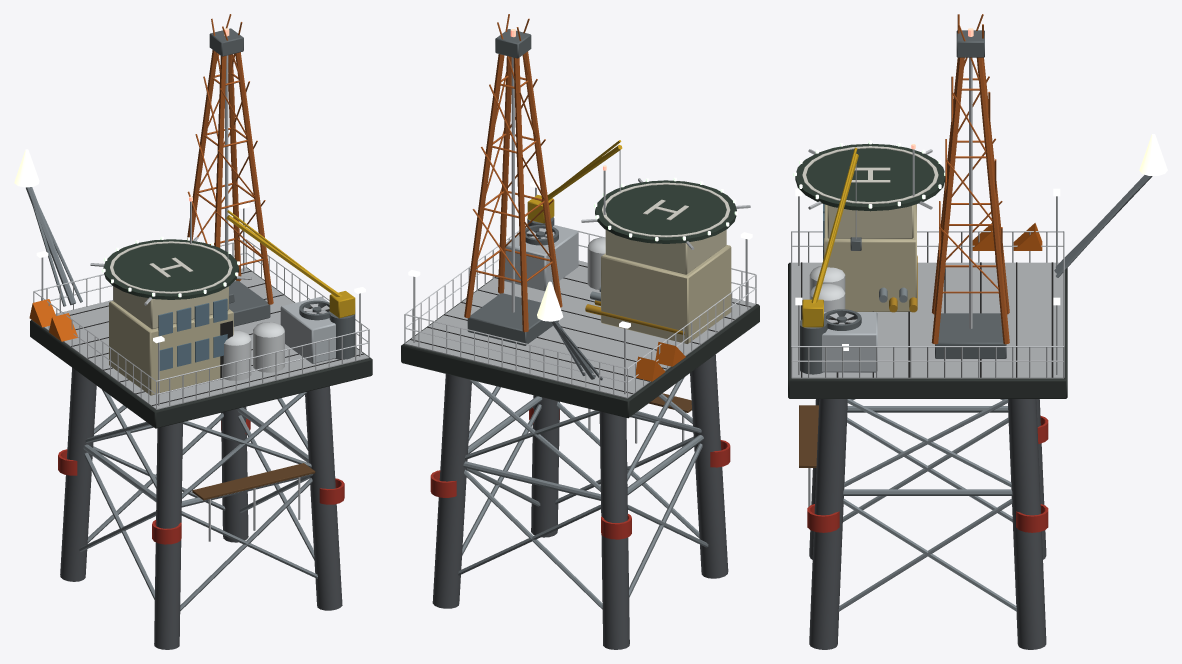
Rendered from offshoreRig.glb.
3 renders of one model, left to right at view 1: azimuth 30°, elevation 25°; view 2: azimuth 150°, elevation 25°; view 3: azimuth 270°, elevation 25°, orthographic. The views are drawn at different scales.
Parts seen in each view (by area): view 1: paint, metal, cladding, steel_dark, glass, wood, dark, glow_warm; view 2: paint, metal, cladding, steel_dark, dark, glow_warm; view 3: paint, metal, steel_dark, cladding, wood, dark, glow_warm.
Boxes of the visible parts, x1,y1,x2,y2 form: paint: (26,14,355,649); metal: (33,55,369,541); cladding: (109,286,335,395); steel_dark: (30,28,372,428); glass: (158,298,227,370); wood: (192,463,315,500); dark: (69,271,364,405); glow_warm: (14,149,365,343); paint: (430,14,736,649); metal: (404,57,756,454); cladding: (504,225,731,343); steel_dark: (401,29,759,418); dark: (410,231,751,393); glow_warm: (408,180,752,328); paint: (795,14,1152,649); metal: (791,57,1064,506); steel_dark: (788,30,1067,398); cladding: (822,204,916,372); wood: (799,405,818,467); dark: (801,243,1053,377); glow_warm: (795,134,1167,305).
Bounding box in the file's own units: 8.2 × 18.66 × 10.6.
